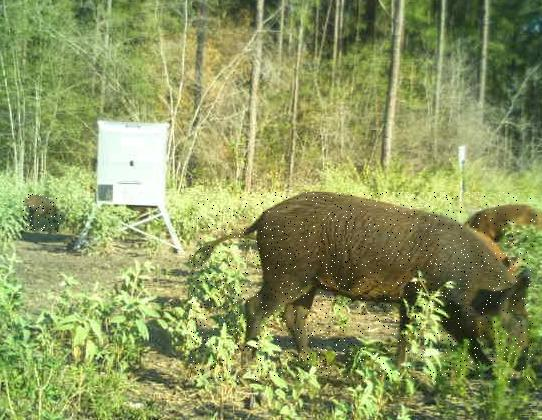Hog: (191, 193, 534, 383), (462, 201, 542, 243), (24, 193, 63, 232)
